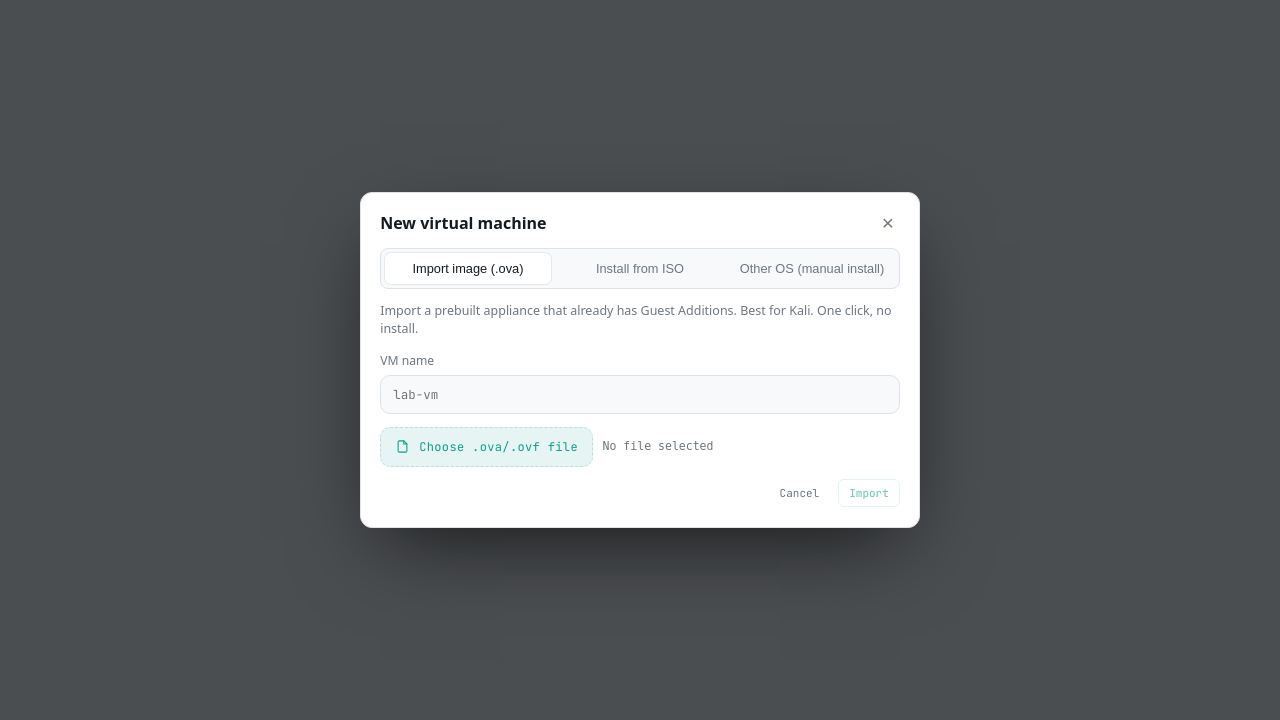
CreateVmWizard › stops polling and shows an error when the job is unknown (agent restarted)
Click the tab "Other OS (manual install)". click: x=812, y=268
box: [729,253,895,284]
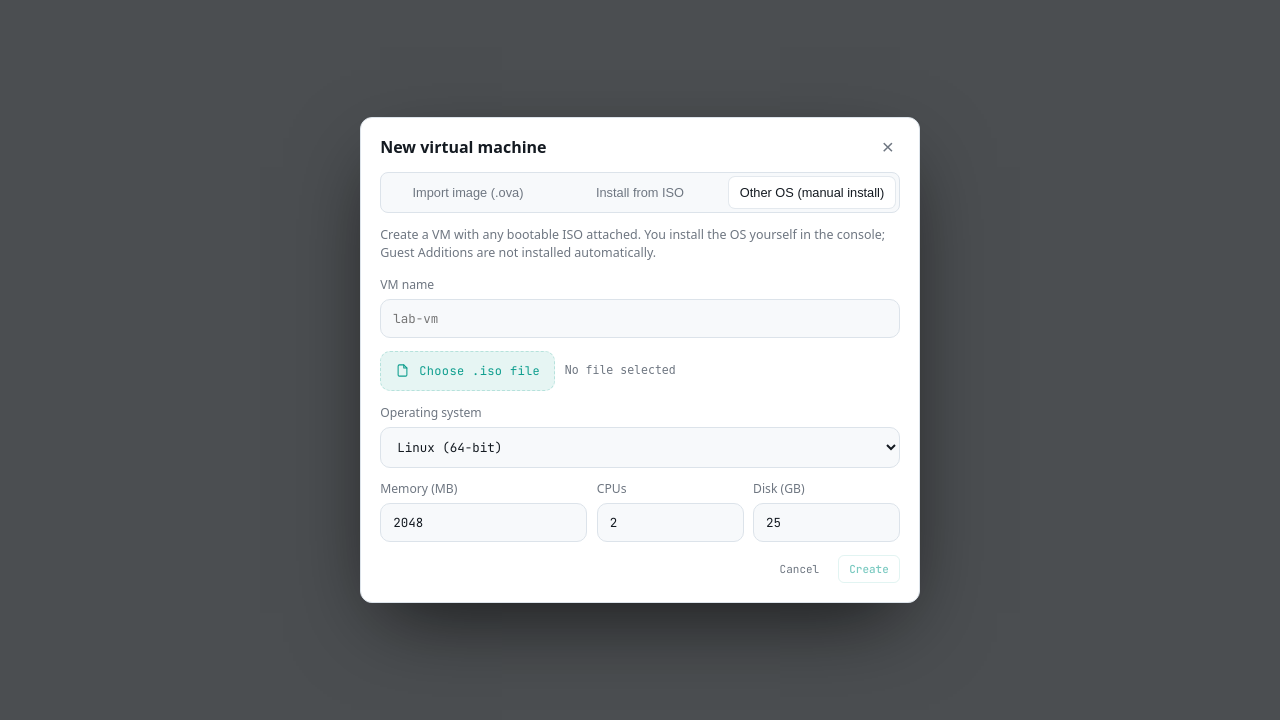
Type "alp" into the field with placeholder "lab-vm". click: x=640, y=318
box: [380,299,900,338]
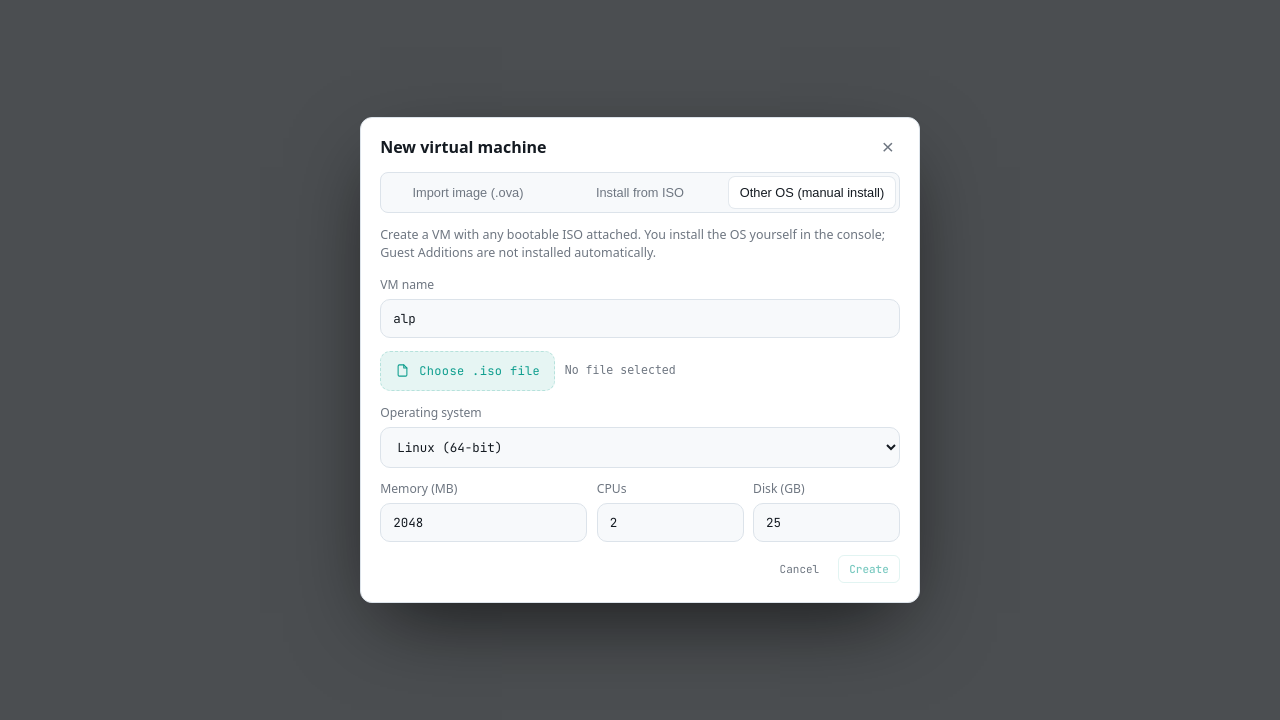
Click the button "Choose .iso file". click: x=468, y=371
box: [380,351,555,391]
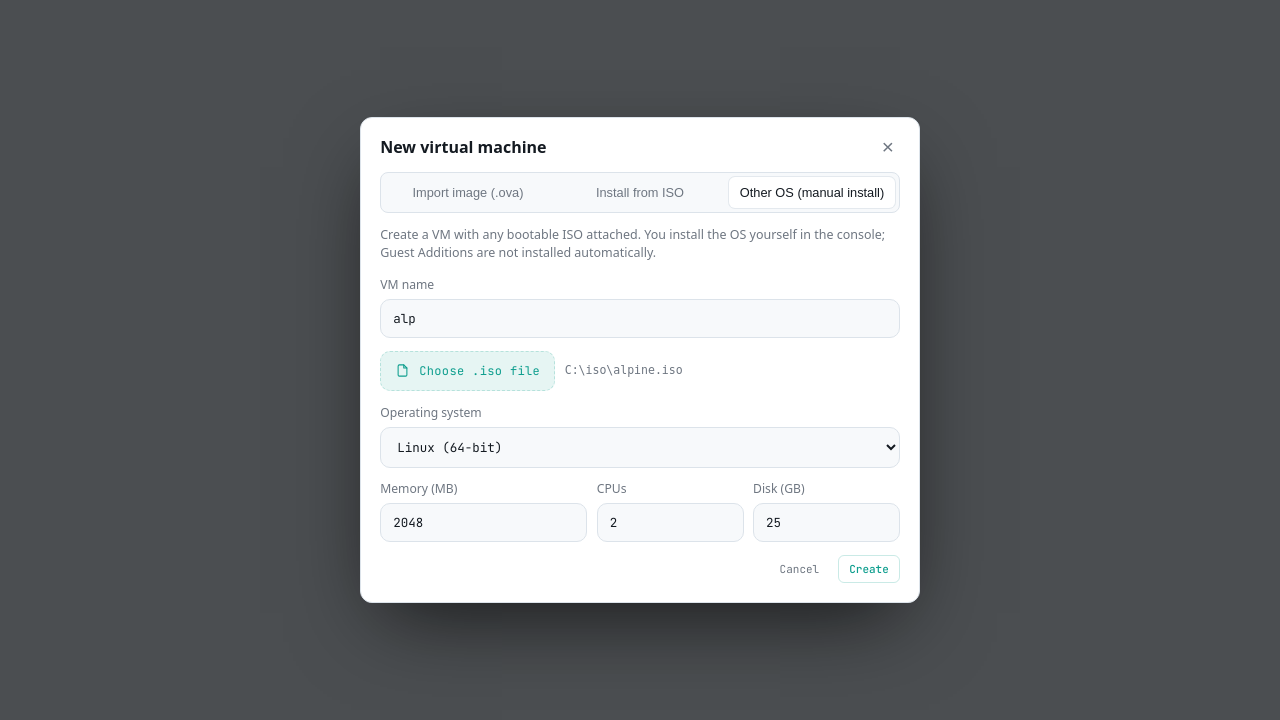
Expected: the text "C:\\iso\\alpine.iso" is shown, [565,363,683,377]
Click the button "Create". click: x=869, y=569
box: [838,555,900,583]
Wait 2000 ms
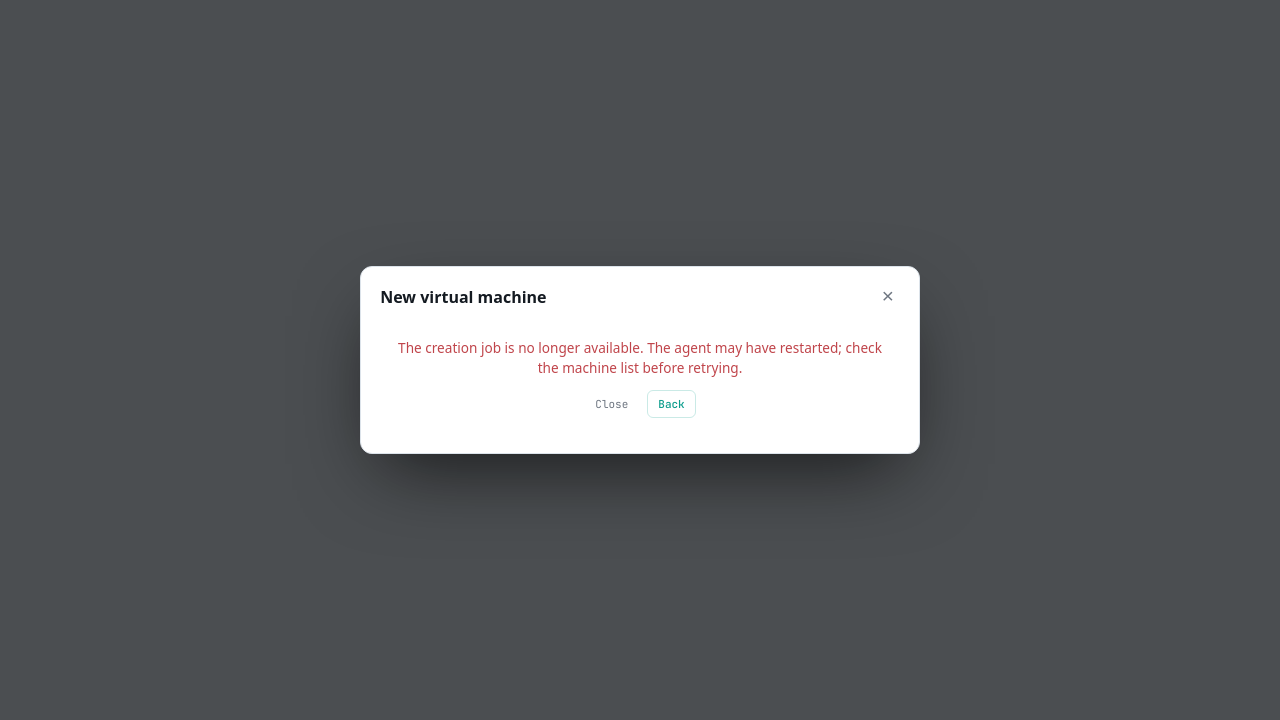
Expected: the text "The creation job is no longer available. The agent may have restarted; check the machine list before retrying." is shown, [398,338,882,377]
